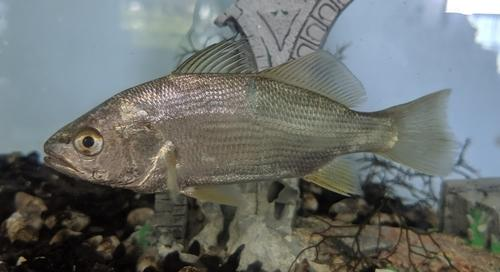Silver Perch: (44, 35, 464, 213)
